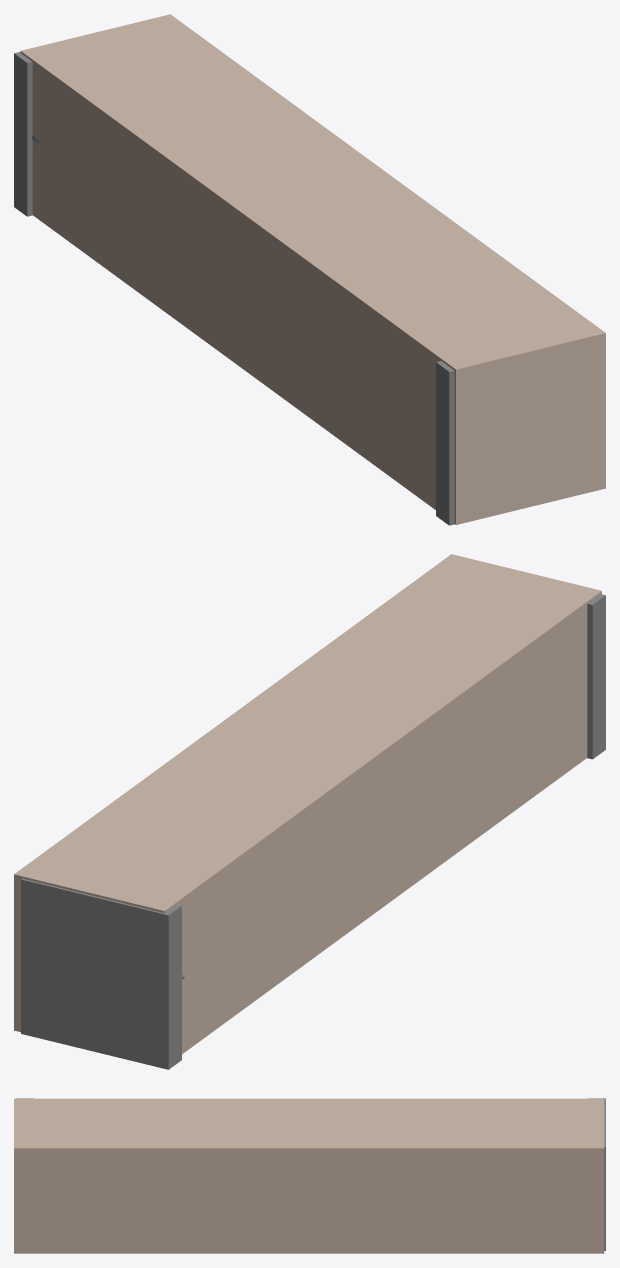
Rendered from ruins_RomanTypeCol_01.glb.
The picture shows the model from 3 angles, top to bottom: view 1: azimuth 30°, elevation 25°; view 2: azimuth 150°, elevation 25°; view 3: azimuth 270°, elevation 25°; orthographic projection. The views are drawn at different scales.
Parts seen in each view (by area): view 1: geometry_0; view 2: geometry_0; view 3: geometry_0.
Boxes of the visible parts, <box> form: geometry_0: <box>14,14,605,525</box>; geometry_0: <box>14,554,605,1069</box>; geometry_0: <box>14,1098,605,1253</box>.
Size of the model in its own units: 0.1216 by 0.1167 by 0.5929.
